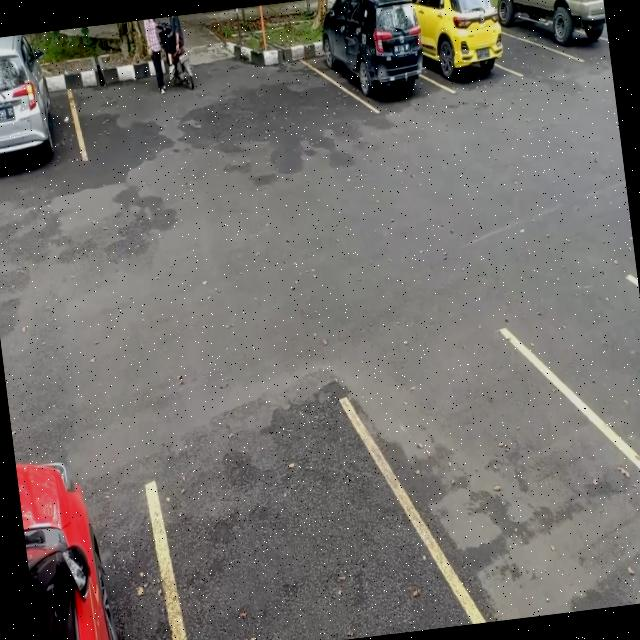empty: (346, 322, 640, 619), (146, 394, 487, 640)
occupied: (318, 0, 433, 120), (0, 36, 85, 183), (416, 0, 511, 100), (495, 0, 607, 53)
